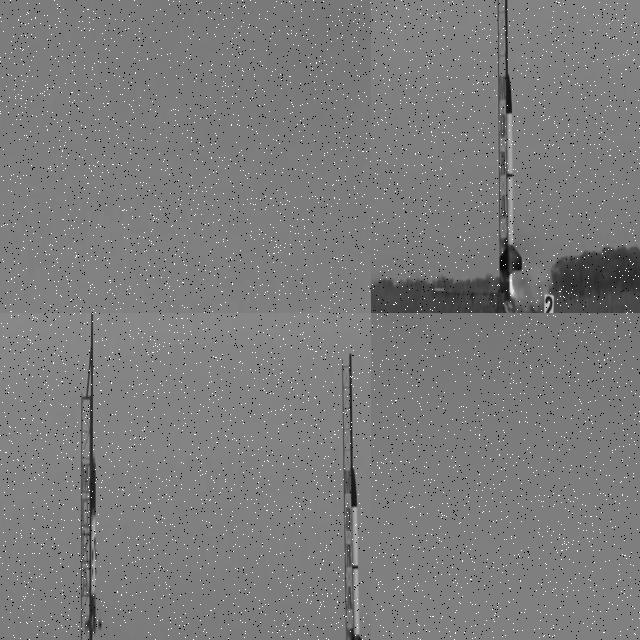Rocket: (498, 72, 523, 279), (345, 467, 368, 640), (86, 457, 101, 640)
